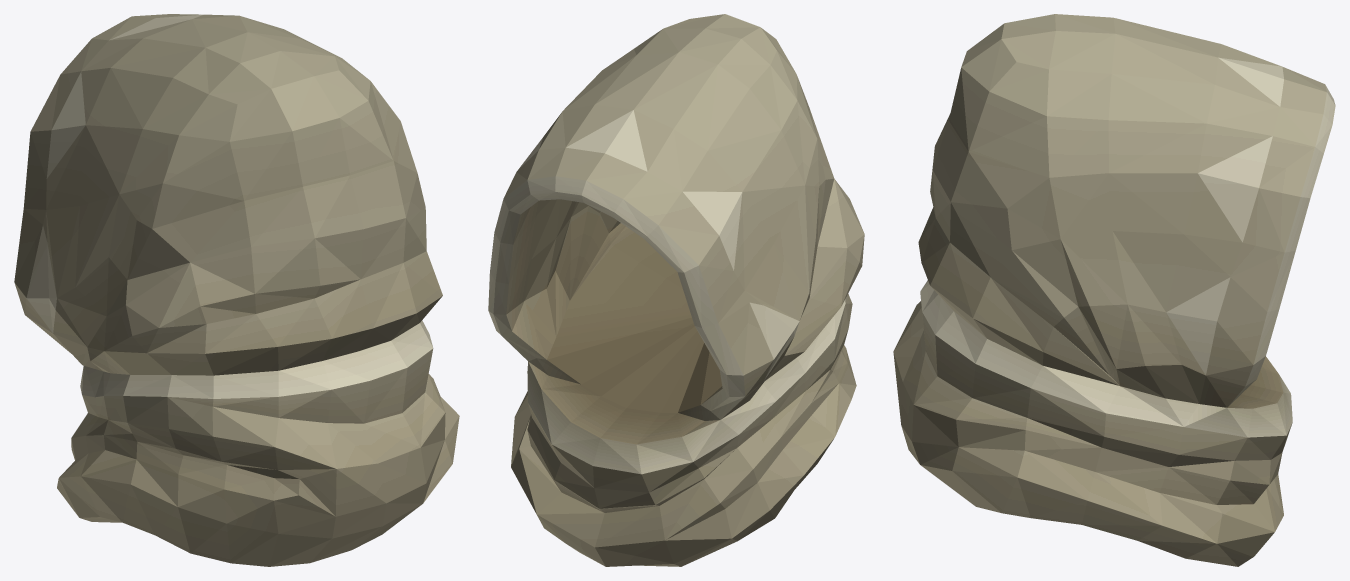
Rendered from CharSkyKid_Hair_AP27CaretakerHood.glb.
3 views of the same model, side by side, from view 1: azimuth 30°, elevation 25°; view 2: azimuth 150°, elevation 25°; view 3: azimuth 270°, elevation 25° (orthographic). The views are drawn at different scales.
Visible parts, largest first — view 1: CharSkyKid_Hair_AP27CaretakerHood; view 2: CharSkyKid_Hair_AP27CaretakerHood; view 3: CharSkyKid_Hair_AP27CaretakerHood.
Part boxes in pixels (box(x1,y1,x2,y2)): CharSkyKid_Hair_AP27CaretakerHood: box(14, 14, 459, 566); CharSkyKid_Hair_AP27CaretakerHood: box(488, 14, 864, 566); CharSkyKid_Hair_AP27CaretakerHood: box(893, 14, 1335, 566).
Size of the model in its own units: 3.02 by 4.53 by 3.52.
1 material, 1 textured.
